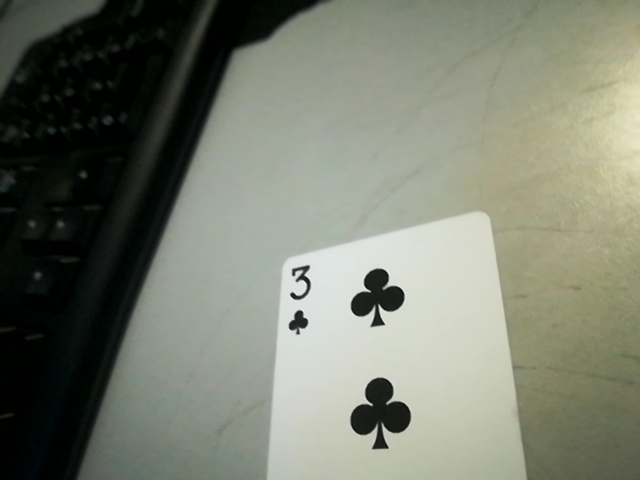mh 3: (270, 258, 325, 339)
